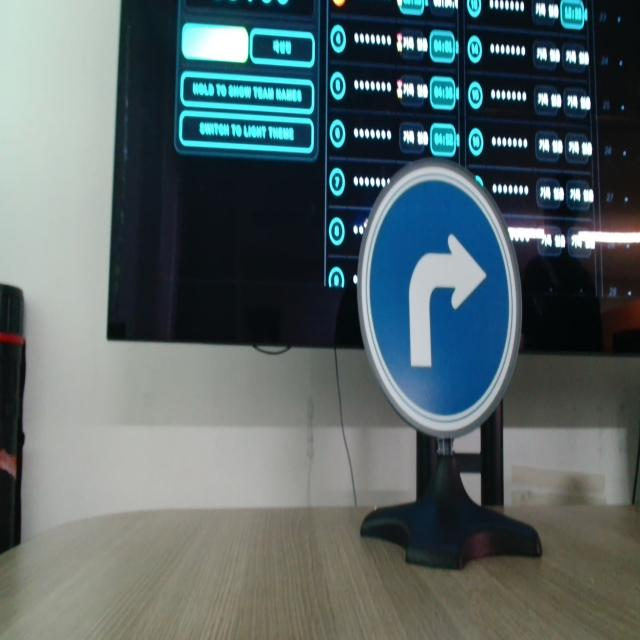right_dierection: (348, 140, 528, 471)
